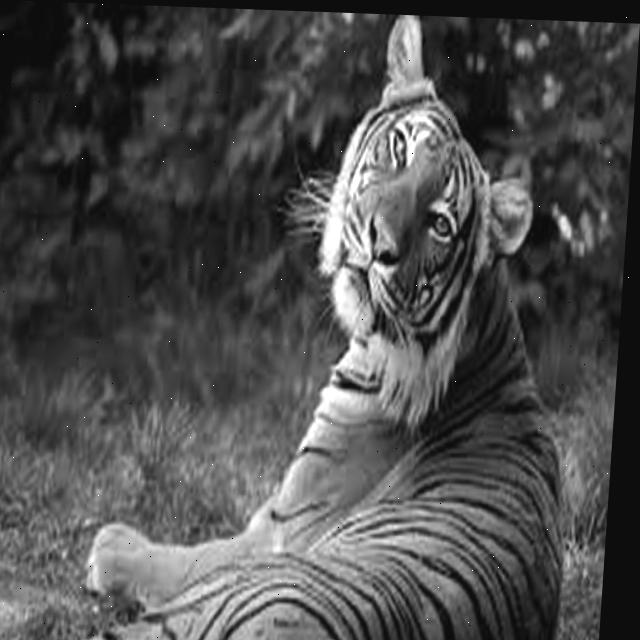Tiger: (140, 42, 553, 598)
